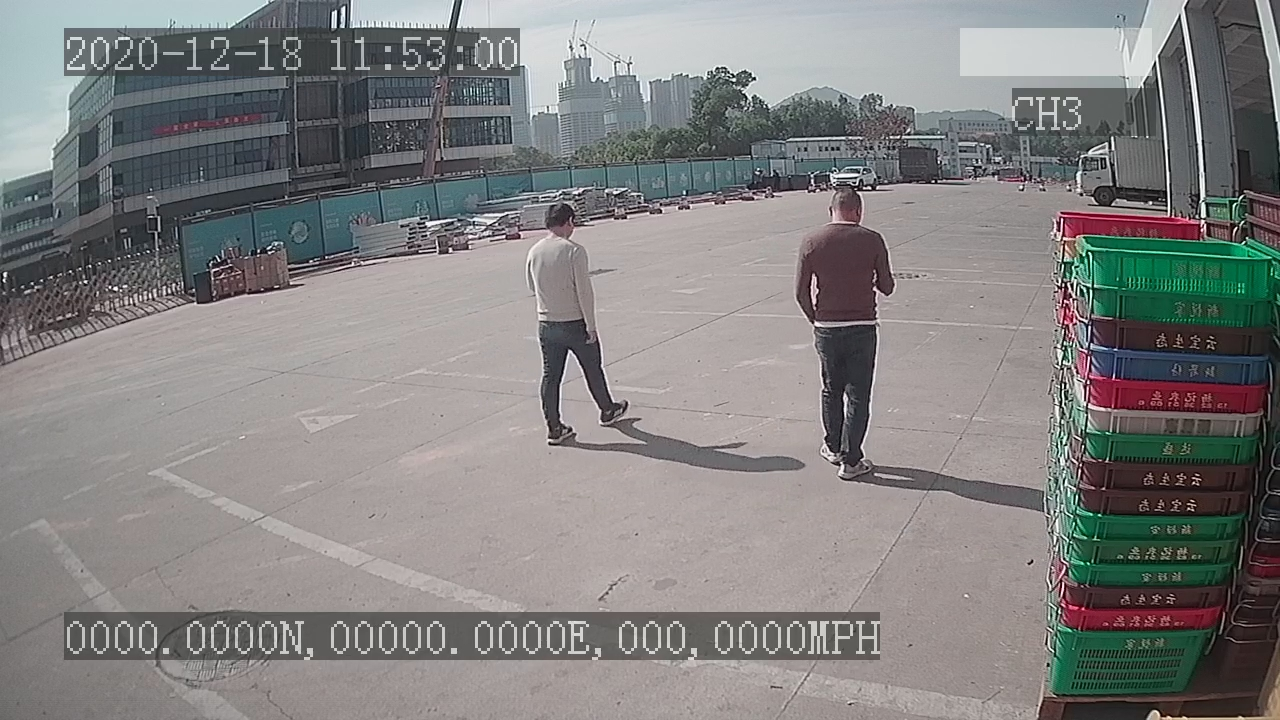person: (784, 179, 899, 483), (518, 199, 636, 454)
